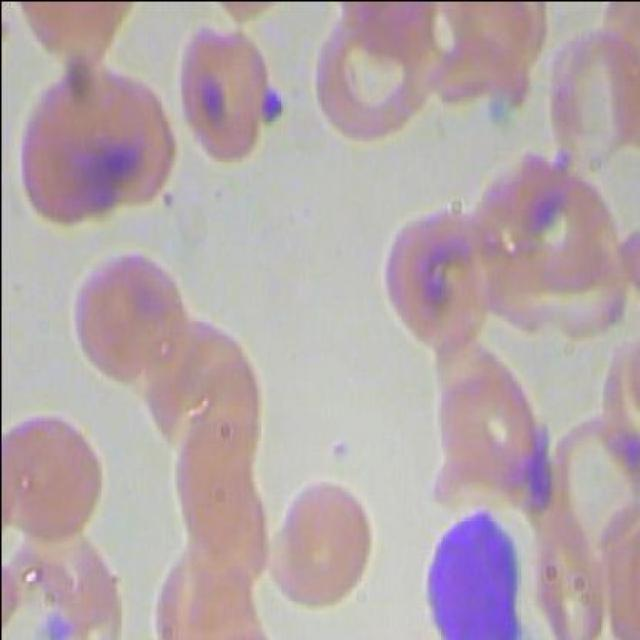Platelets: (256, 85, 293, 128)
RBC: (470, 154, 624, 326), (5, 72, 132, 232), (312, 9, 434, 148), (260, 474, 382, 612), (68, 246, 188, 386), (428, 362, 548, 502), (167, 22, 288, 160), (126, 306, 246, 445), (371, 205, 491, 344), (1, 399, 116, 541), (70, 65, 178, 213), (532, 404, 638, 548), (532, 27, 639, 168), (524, 508, 613, 638), (148, 540, 252, 638)
WBC: (402, 502, 526, 638)
